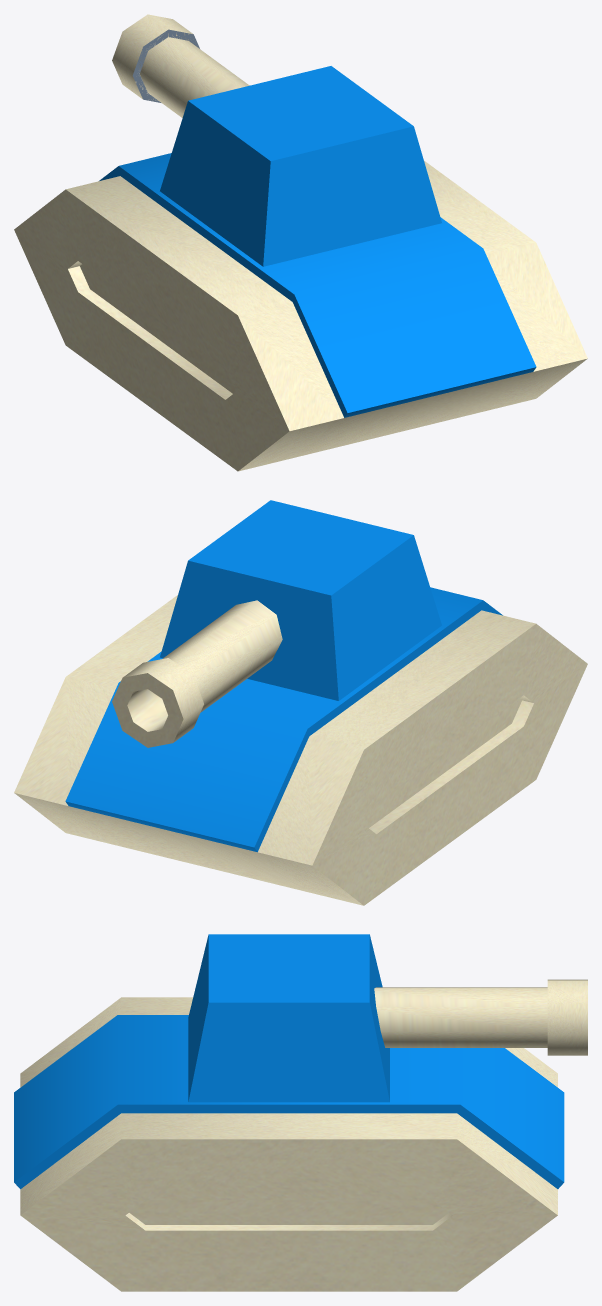
The model's file is tank.fbx.
3 views of the same model, one above another, from view 1: azimuth 30°, elevation 25°; view 2: azimuth 150°, elevation 25°; view 3: azimuth 270°, elevation 25° (orthographic). The views are drawn at different scales.
Visible parts, largest first — view 1: Tank.Body, Tank.Head; view 2: Tank.Body, Tank.Head; view 3: Tank.Body, Tank.Head.
Boxes of the visible parts, left/top/right/bottom form: Tank.Body: left=14, top=153, right=587, bottom=471; Tank.Head: left=112, top=14, right=441, bottom=266; Tank.Body: left=14, top=587, right=587, bottom=905; Tank.Head: left=112, top=500, right=441, bottom=747; Tank.Body: left=14, top=997, right=564, bottom=1291; Tank.Head: left=188, top=934, right=587, bottom=1102.
Bounding box in the file's own units: 1 × 1.71 × 0.8282.
